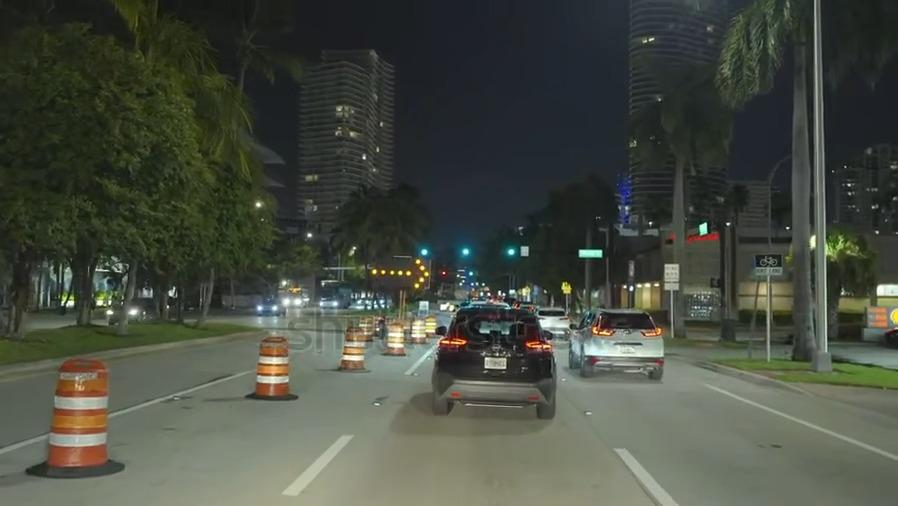arrow traffic sign: (363, 253, 431, 295)
bus: (317, 276, 351, 312), (284, 284, 309, 310)
car: (432, 310, 553, 419), (571, 307, 665, 383), (101, 292, 163, 326), (534, 305, 569, 339), (254, 295, 285, 319)
cone: (46, 356, 109, 469), (252, 332, 292, 399), (341, 323, 366, 367), (385, 319, 403, 354), (412, 317, 425, 344), (360, 314, 373, 340), (424, 315, 435, 336)
traffic light: (499, 239, 521, 267), (453, 241, 476, 264), (415, 243, 435, 261)
